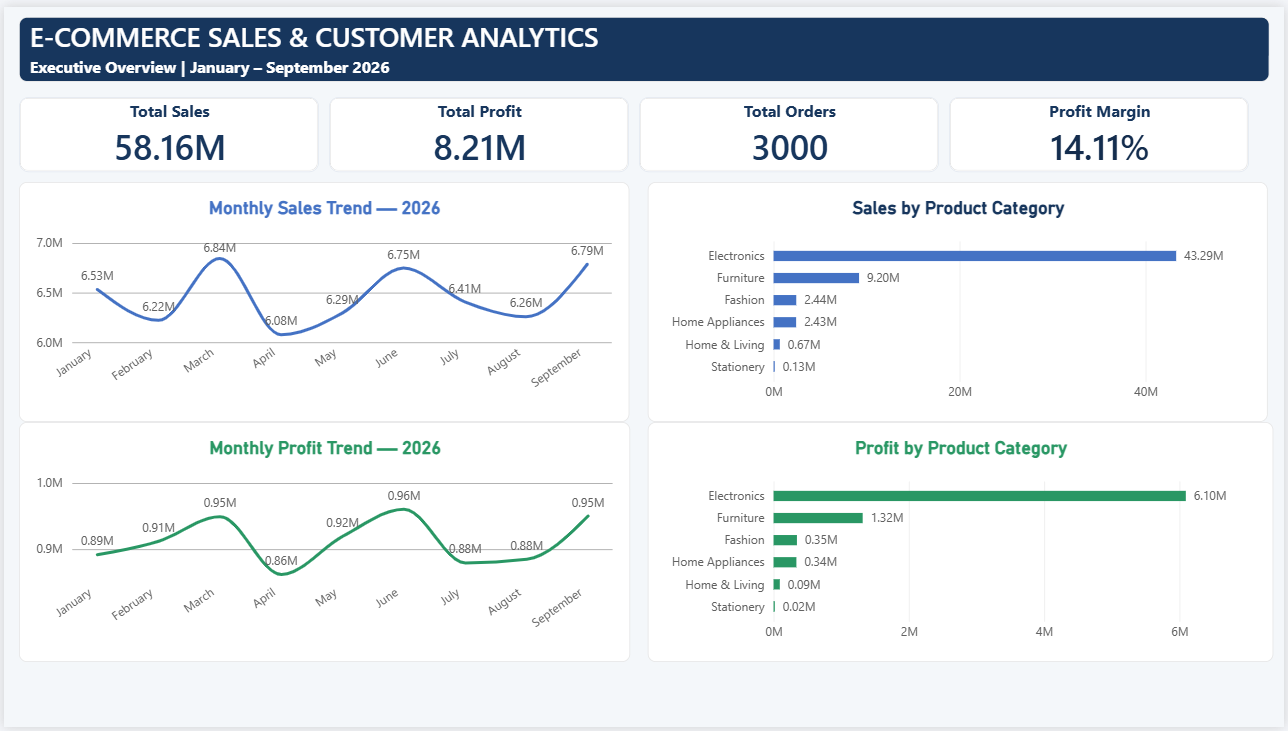

Layout of this report page (visuals, bound fields, positions):
{"tool":"powerbi","page":{"name":"Executive_Overview","canvas":[1280,720],"ordinal":0},"visuals":[{"type":"cardVisual","fields":{"Data":["ecommerce_sales_cleaned.Total Sales"]},"box":[15,90,300,75],"z":0},{"type":"textbox","title":"E-COMMERCE SALES & CUSTOMER ANALYTICS","box":[15,10,1250,65],"z":1000},{"type":"cardVisual","title":"Total Profit","fields":{"Data":["Sum(ecommerce_sales_cleaned.Profit)"]},"box":[325,90,300,75],"z":2000},{"type":"cardVisual","fields":{"Data":["ecommerce_sales_cleaned.Total Orders"]},"box":[635,90,300,75],"z":3000},{"type":"cardVisual","fields":{"Data":["ecommerce_sales_cleaned.Profit Margin"]},"box":[945,90,300,75],"z":4000},{"type":"lineChart","title":"Monthly Sales Trend — 2026","fields":{"Category":["ecommerce_sales_cleaned.Order Date.Variation.Date Hierarchy.Month"],"Y":["Sum(ecommerce_sales_cleaned.Sales)"]},"box":[15,174.5,610,240],"z":5000},{"type":"clusteredBarChart","title":"Sales by Product Category","fields":{"Category":["ecommerce_sales_cleaned.Category"],"Y":["Sum(ecommerce_sales_cleaned.Sales)"]},"box":[643.6,174.5,620,240],"z":6000},{"type":"lineChart","title":"Monthly Profit Trend — 2026","fields":{"Category":["ecommerce_sales_cleaned.Order Date.Variation.Date Hierarchy.Month"],"Y":["Sum(ecommerce_sales_cleaned.Profit)"]},"box":[15,414.5,610.9,240],"z":7000},{"type":"clusteredBarChart","title":"Profit by Product Category","fields":{"Category":["ecommerce_sales_cleaned.Category"],"Y":["Sum(ecommerce_sales_cleaned.Profit)"]},"box":[643.6,414.5,625.5,240],"z":8000}]}

Visuals, with their boxes in screenshot pixels (x1, y1, x2, y2), scaled from the page's 1280x720 canvas onto the 1288x731 screenshot:
cardVisual - ecommerce_sales_cleaned.Total Sales: crop(15, 91, 317, 168)
"E-COMMERCE SALES & CUSTOMER ANALYTICS" textbox: crop(15, 10, 1273, 76)
"Total Profit" cardVisual: crop(327, 91, 629, 168)
cardVisual - ecommerce_sales_cleaned.Total Orders: crop(639, 91, 941, 168)
cardVisual - ecommerce_sales_cleaned.Profit Margin: crop(951, 91, 1253, 168)
"Monthly Sales Trend — 2026" lineChart: crop(15, 177, 629, 421)
"Sales by Product Category" clusteredBarChart: crop(648, 177, 1271, 421)
"Monthly Profit Trend — 2026" lineChart: crop(15, 421, 630, 664)
"Profit by Product Category" clusteredBarChart: crop(648, 421, 1277, 664)
